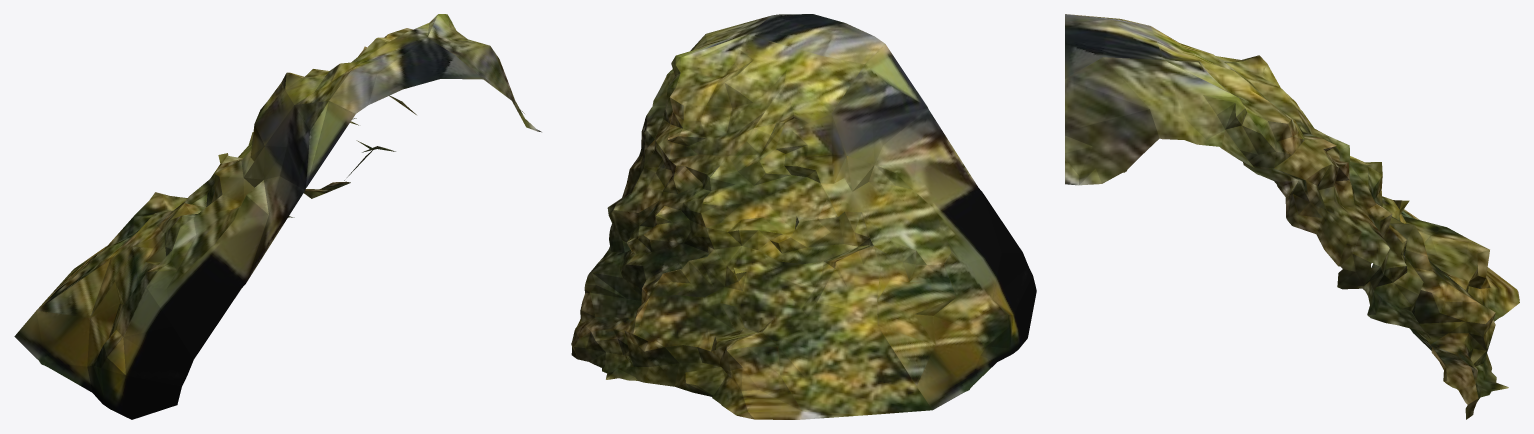
3 renders of one model, left to right at view 1: azimuth 30°, elevation 25°; view 2: azimuth 150°, elevation 25°; view 3: azimuth 270°, elevation 25°, orthographic. The views are drawn at different scales.
Size of the model in its own units: 5.13 by 3.69 by 4.67.
2 materials, 2 textured.
